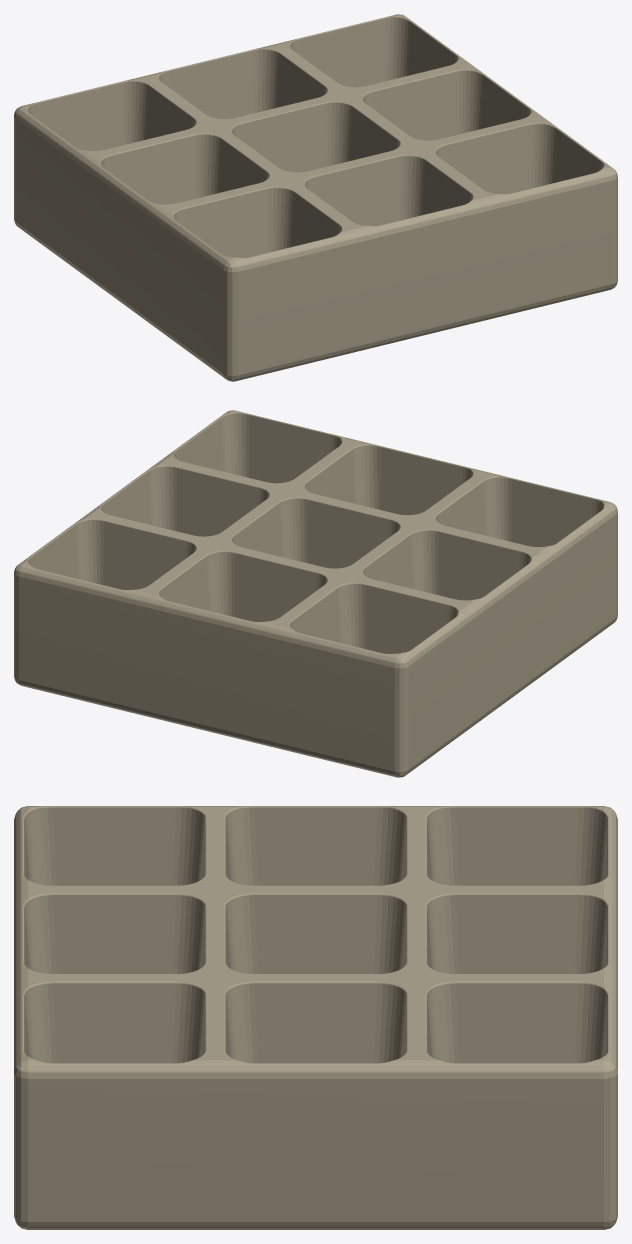
The model's file is fridge_contents__taupe_nine_cube_tray.glb.
3 views of the same model, one above another, from view 1: azimuth 30°, elevation 25°; view 2: azimuth 150°, elevation 25°; view 3: azimuth 270°, elevation 25° (orthographic). The views are drawn at different scales.
Parts seen in each view (by area): view 1: molded tray with rounded wells; view 2: molded tray with rounded wells; view 3: molded tray with rounded wells.
Boxes of the visible parts, bbox=[...] form: molded tray with rounded wells: bbox=[14, 14, 617, 381]; molded tray with rounded wells: bbox=[14, 410, 617, 777]; molded tray with rounded wells: bbox=[14, 806, 617, 1229].
Size of the model in its own units: 0.135 by 0.04 by 0.13.
